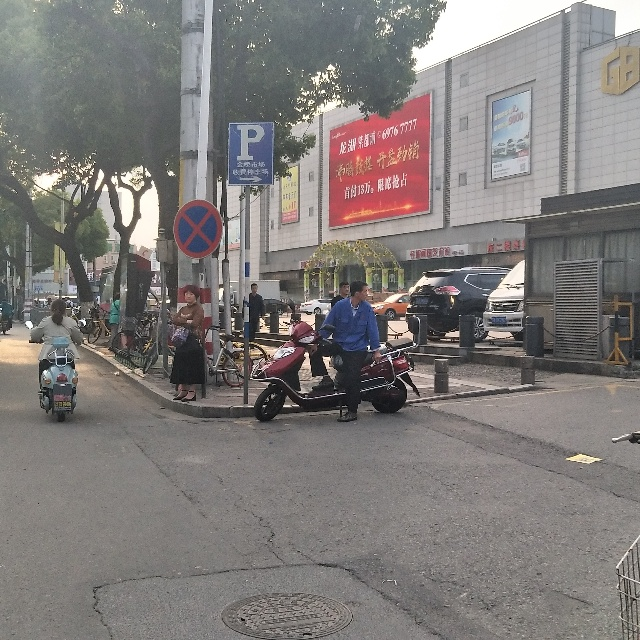stop: (173, 199, 222, 259)
